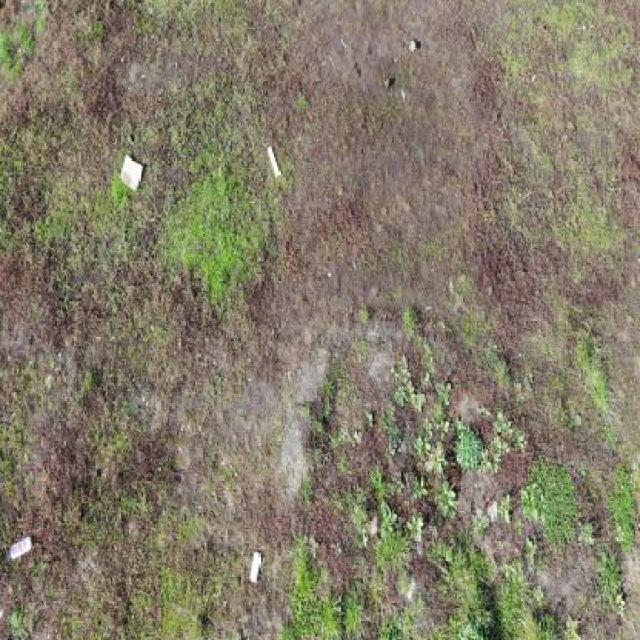Garbage: (118, 155, 144, 195), (6, 536, 34, 561), (266, 146, 281, 177), (248, 552, 262, 584)
